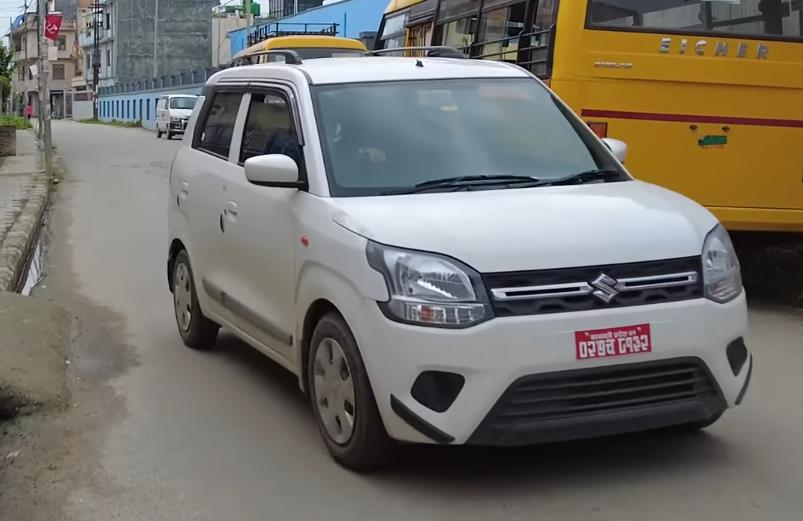car: (158, 51, 761, 477)
school_bus: (221, 20, 378, 62)
van: (154, 91, 207, 142)
